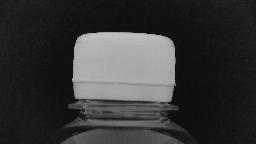Good Cap: (63, 29, 185, 115)
